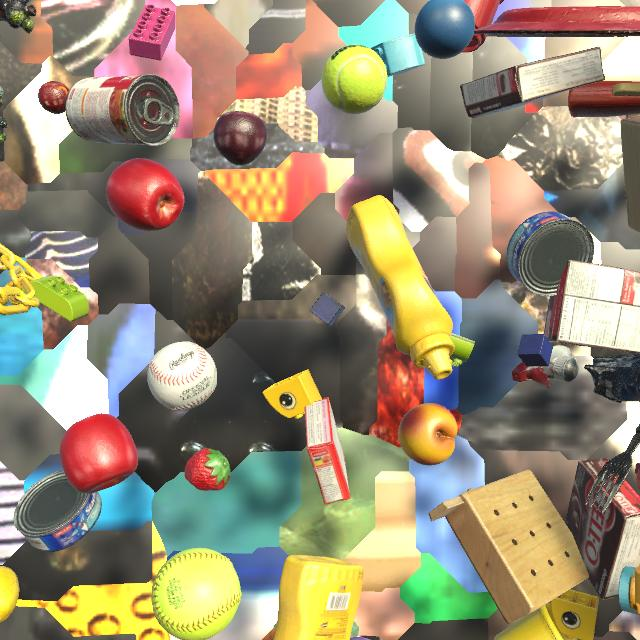ycb_005_tomato_soup_can: (65, 74, 180, 146)
ycb_006_mustard_bottle: (346, 195, 455, 380), (273, 555, 364, 640)
ycb_007_tuna_fish_can: (506, 212, 594, 296), (14, 470, 102, 552)
ycb_008_pudding_box: (565, 458, 640, 600), (460, 46, 605, 118), (544, 260, 640, 354)
ycb_009_gelatin_box: (304, 397, 350, 505)
ycb_012_strawberry: (184, 448, 231, 491)
ycb_013_apple: (59, 413, 138, 494), (106, 158, 185, 231)
ycb_014_lemon: (0, 566, 19, 622)
ycb_015_peach: (398, 403, 458, 465)
ycb_018_plum: (213, 111, 267, 166)
